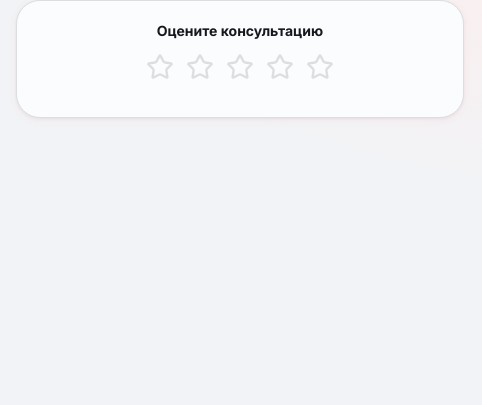
it: RatingCard › вопросы появляются после звёзд
Expected: the element "Проблема решена?" is not shown
Click the button named "4 из 5": point(280, 67) [262, 49, 298, 85]
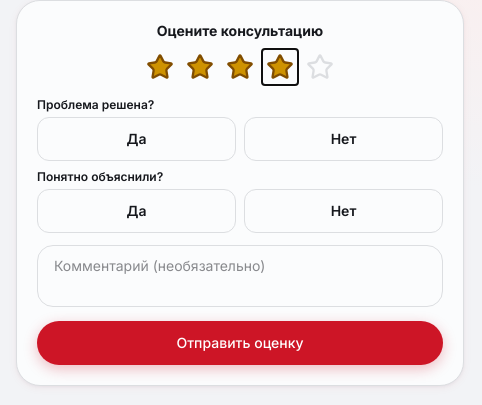
Now the element "Проблема решена?" is shown, box [37, 97, 443, 161]
Now the element "Понятно объяснили?" is shown, box [37, 169, 443, 233]
